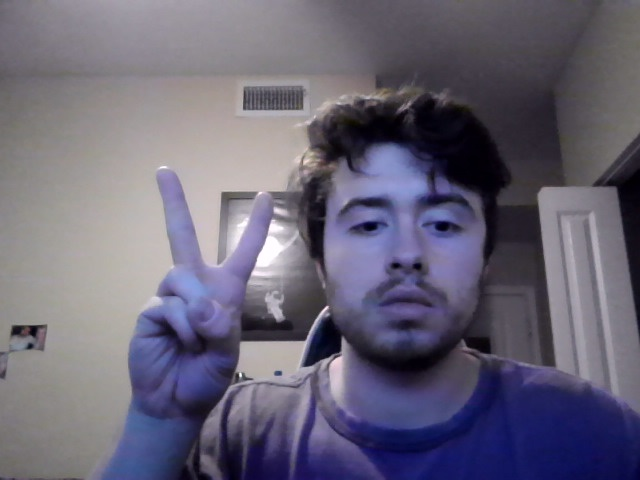v: (126, 166, 274, 436)
